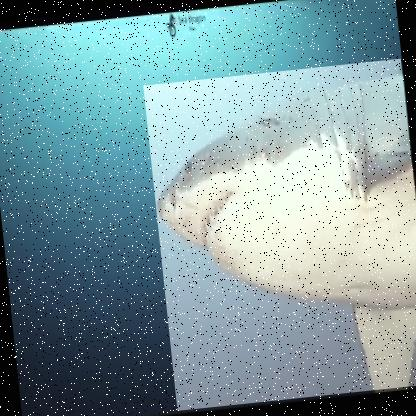white-shark: (141, 58, 415, 412)
